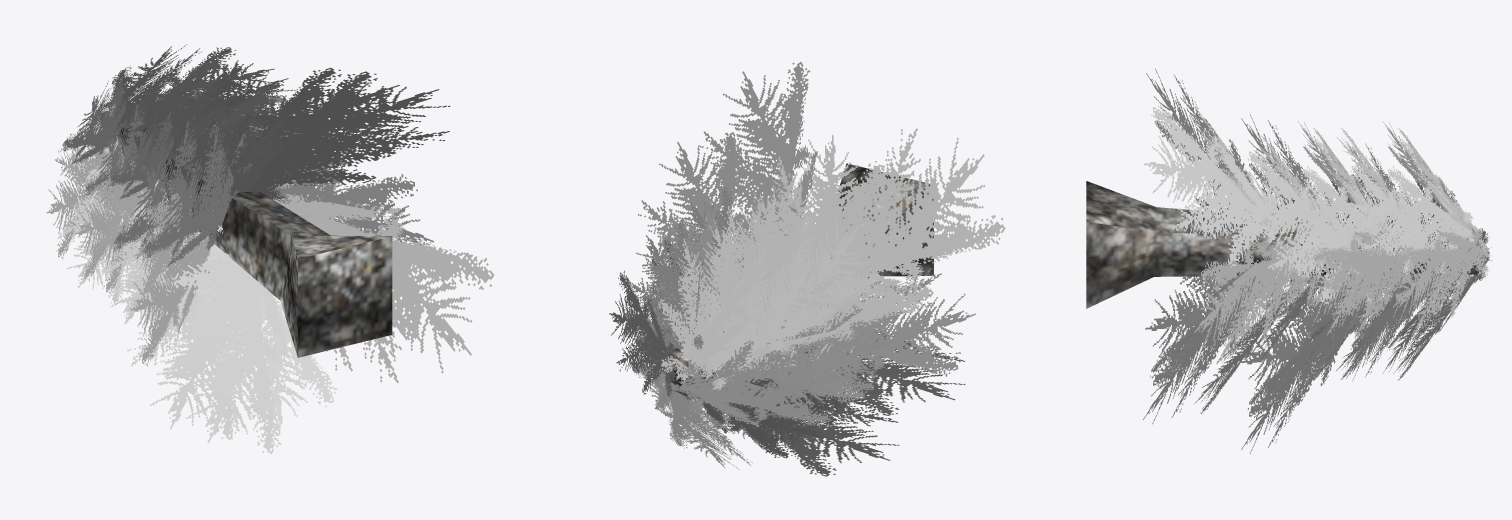
Rendered from Tree.fbx.
3 renders of one model, left to right at view 1: azimuth 30°, elevation 25°; view 2: azimuth 150°, elevation 25°; view 3: azimuth 270°, elevation 25°, orthographic. The views are drawn at different scales.
Parts seen in each view (by area): view 1: Cube; view 2: Cube; view 3: Cube.
Part boxes in pixels (bbox=[...]): Cube: bbox=[46, 44, 494, 454]; Cube: bbox=[609, 62, 1005, 476]; Cube: bbox=[1086, 68, 1492, 453].
Bounding box in the file's own units: 690 × 717 × 619.
